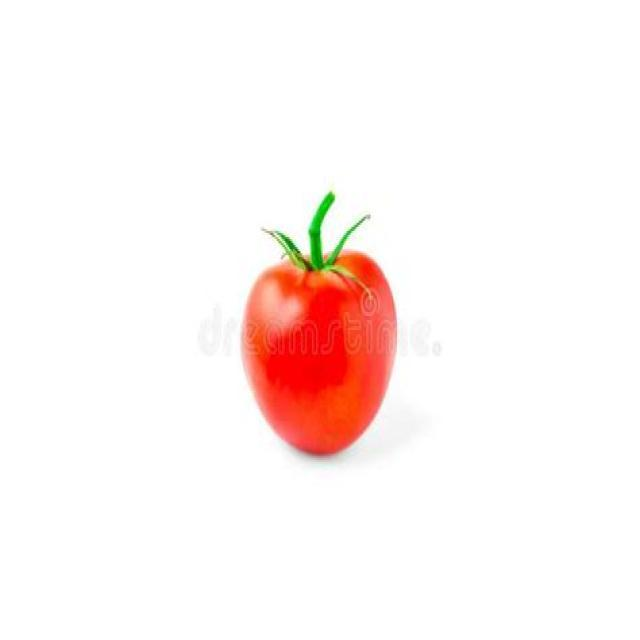Tomato: (240, 194, 399, 459)
